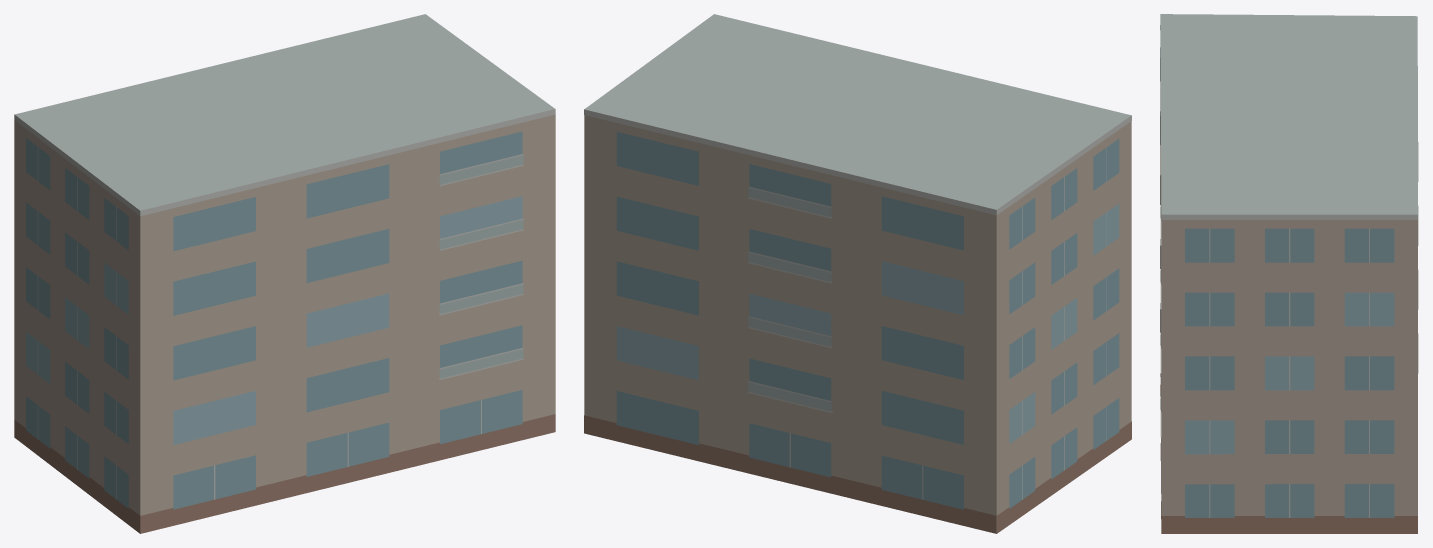
The model's file is survey-upis-32814268.glb.
3 renders of one model, left to right at view 1: azimuth 30°, elevation 25°; view 2: azimuth 150°, elevation 25°; view 3: azimuth 270°, elevation 25°, orthographic.
Visible parts, largest first — view 1: survey-upis-32814268.tmp; view 2: survey-upis-32814268.tmp; view 3: survey-upis-32814268.tmp.
Boxes of the visible parts, box(x1,y1,x2,y2) form: survey-upis-32814268.tmp: box(14, 14, 555, 533); survey-upis-32814268.tmp: box(584, 14, 1131, 533); survey-upis-32814268.tmp: box(1160, 14, 1418, 533).
Size of the model in its own units: 19.41 by 14.4 by 10.58.
